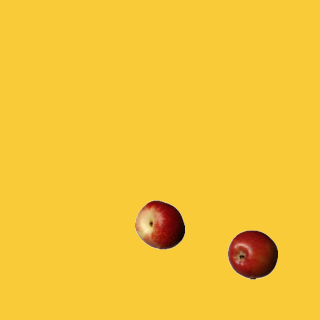Apple Braeburn: (227, 229, 277, 279)
Nectarine: (134, 199, 184, 249)
